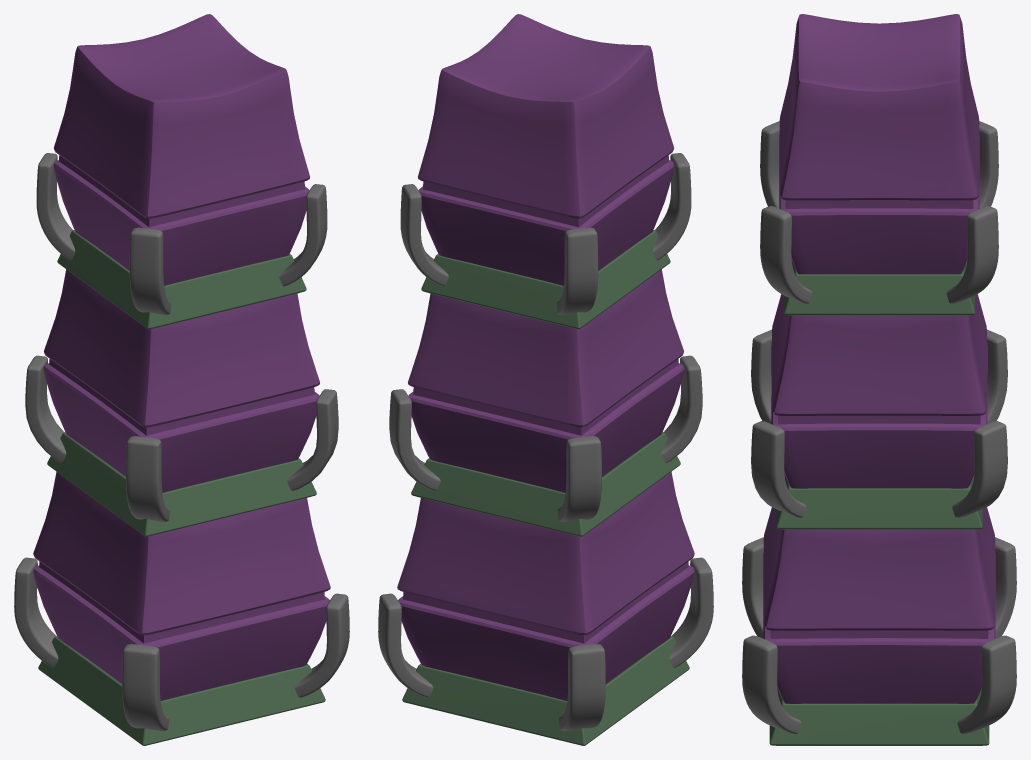
File: SM_Building_04.fbx
The picture shows the model from 3 angles, left to right: view 1: azimuth 30°, elevation 25°; view 2: azimuth 150°, elevation 25°; view 3: azimuth 270°, elevation 25°; orthographic projection. The views are drawn at different scales.
Parts seen in each view (by area): view 1: SM_Building04, SM_Building04.002, SM_Building04.001; view 2: SM_Building04, SM_Building04.002, SM_Building04.001; view 3: SM_Building04, SM_Building04.001, SM_Building04.002.
Part boxes in pixels (x1=…): SM_Building04: x1=33, y1=14, x2=330, y2=700; SM_Building04.002: x1=38, y1=230, x2=325, y2=745; SM_Building04.001: x1=14, y1=153, x2=349, y2=730; SM_Building04: x1=397, y1=14, x2=694, y2=700; SM_Building04.002: x1=402, y1=230, x2=689, y2=745; SM_Building04.001: x1=378, y1=153, x2=713, y2=730; SM_Building04: x1=763, y1=14, x2=995, y2=703; SM_Building04.001: x1=742, y1=121, x2=1016, y2=734; SM_Building04.002: x1=769, y1=259, x2=989, y2=745.
Bounding box in the file's own units: 2575 × 6851 × 2603.
